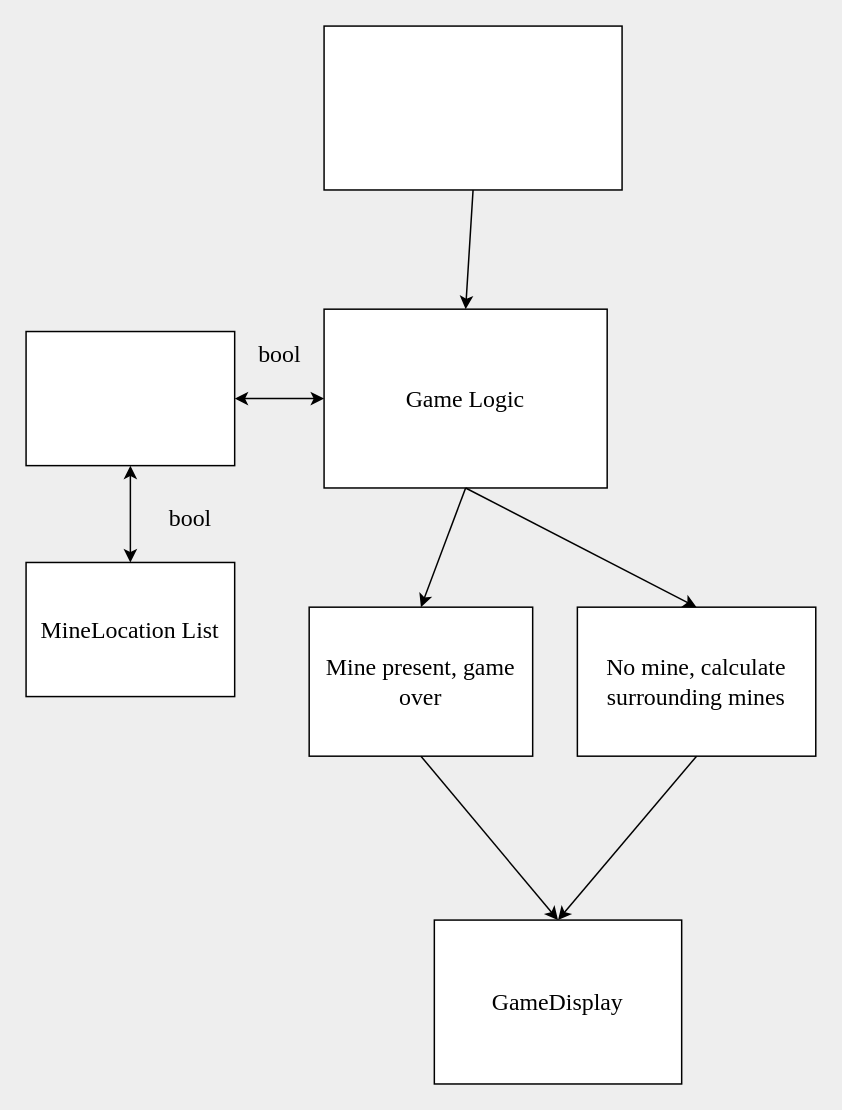
The diagram is 842 pixels wide and 1110 high, and some of its shapes have lost their labels. Here are the shapes that lost their labels. From the top down, the centre of each, then its label:
At pixel 472 107: "PlayerSelection".
At pixel 130 398: "Mine logic".
